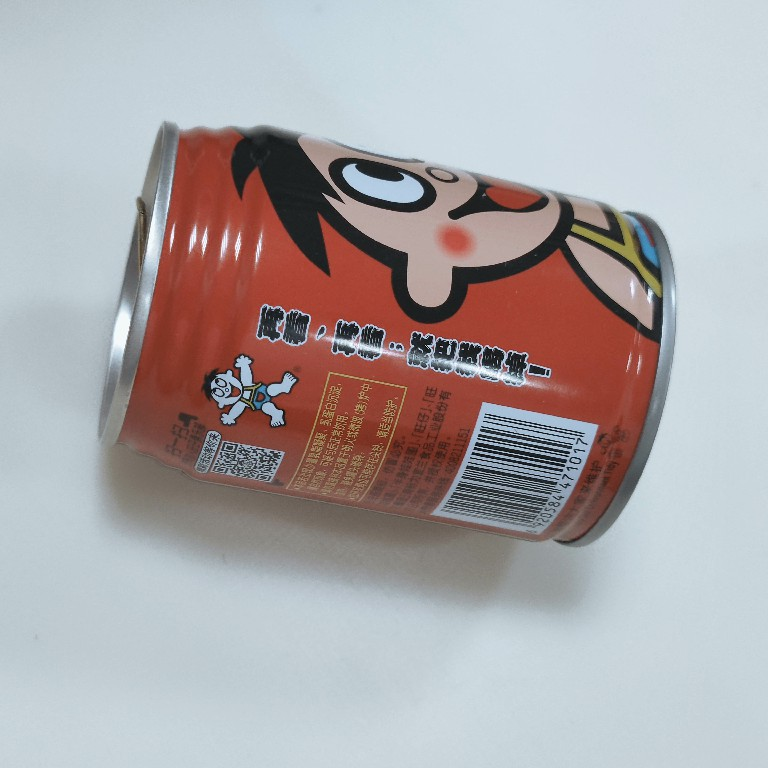can: (93, 119, 681, 555)
